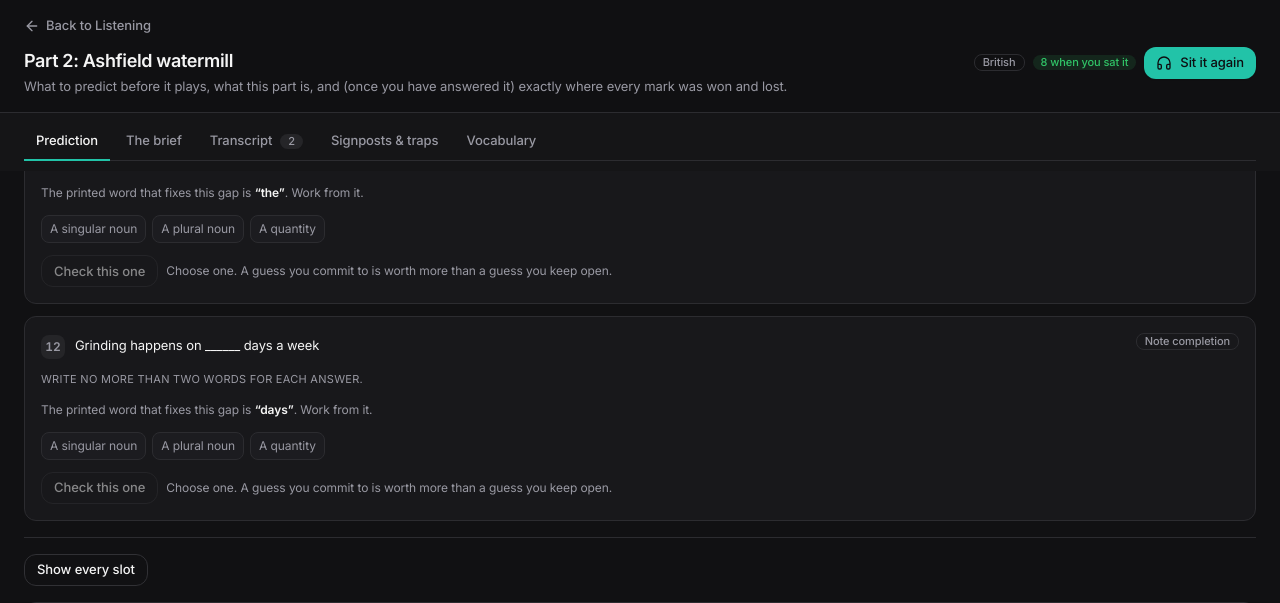
Scenario: the listening coach › grades a prediction against the authored slot without revealing the answer
(page scrolled)
What coordinates should you click on to do the following:
click the button "A plural noun" below "12"
I would click on:
 (198, 446)
Its box is [152,432,244,460].
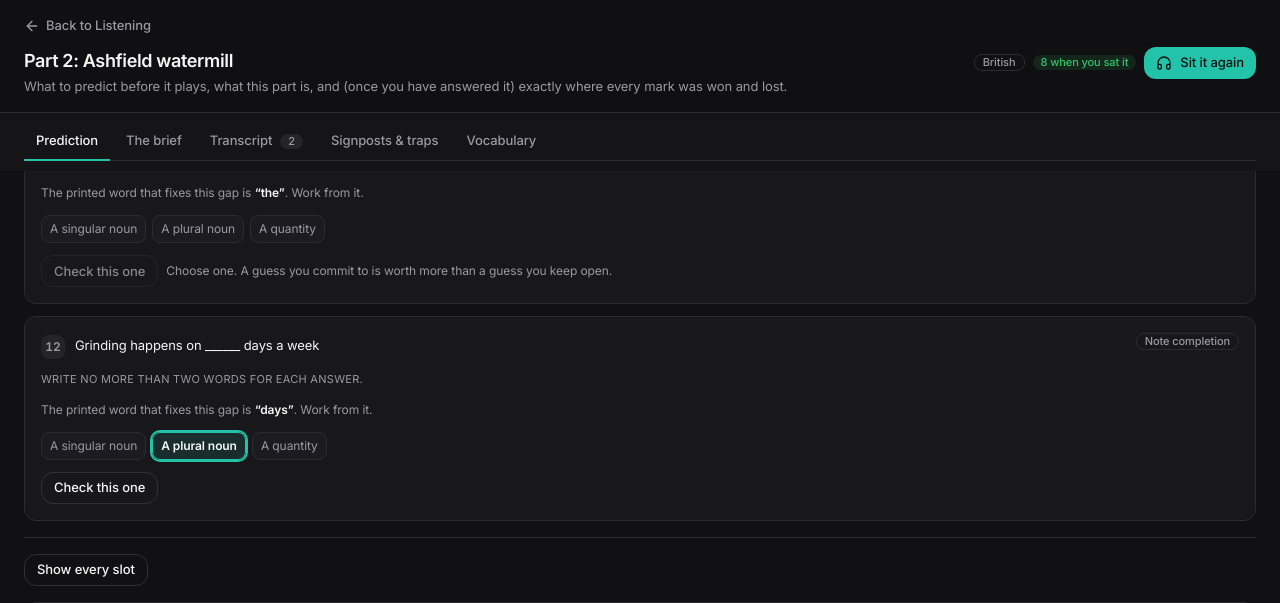
What coordinates should you click on to do the following:
click the button "Check this one" below "12"
I would click on:
 (100, 488)
Its box is [41,472,158,504].
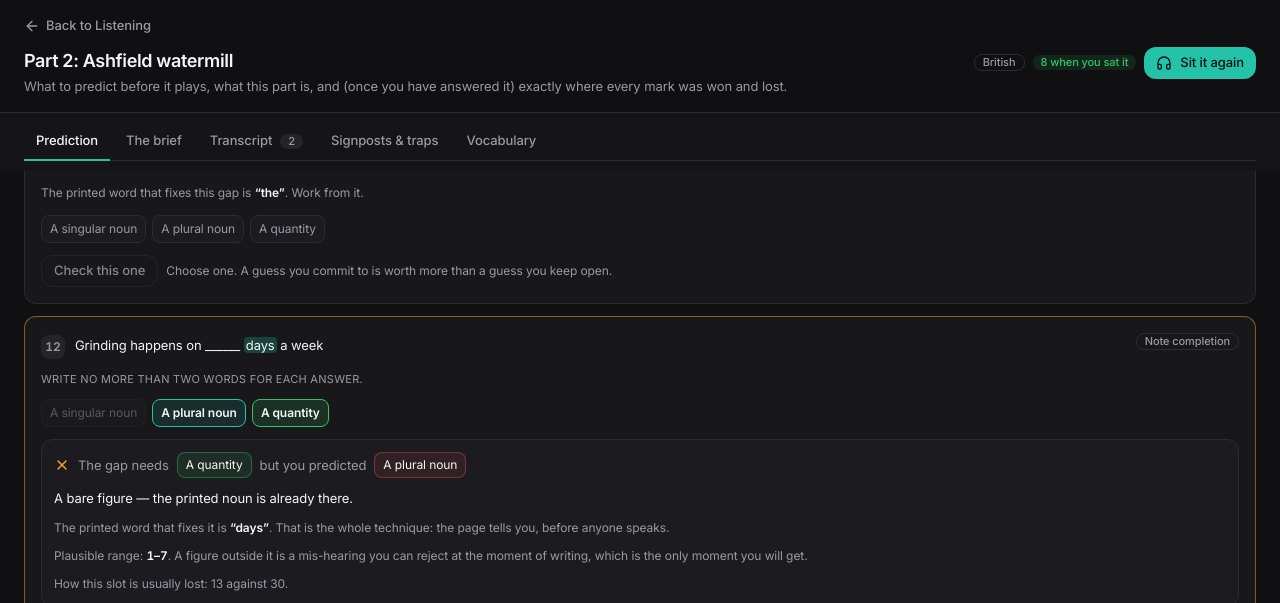
Expected: the button "A quantity" below "12" is shown, [252,399,329,427]
Expected: the text "A bare figure — the printed noun is already there." is shown, [54,490,353,506]
